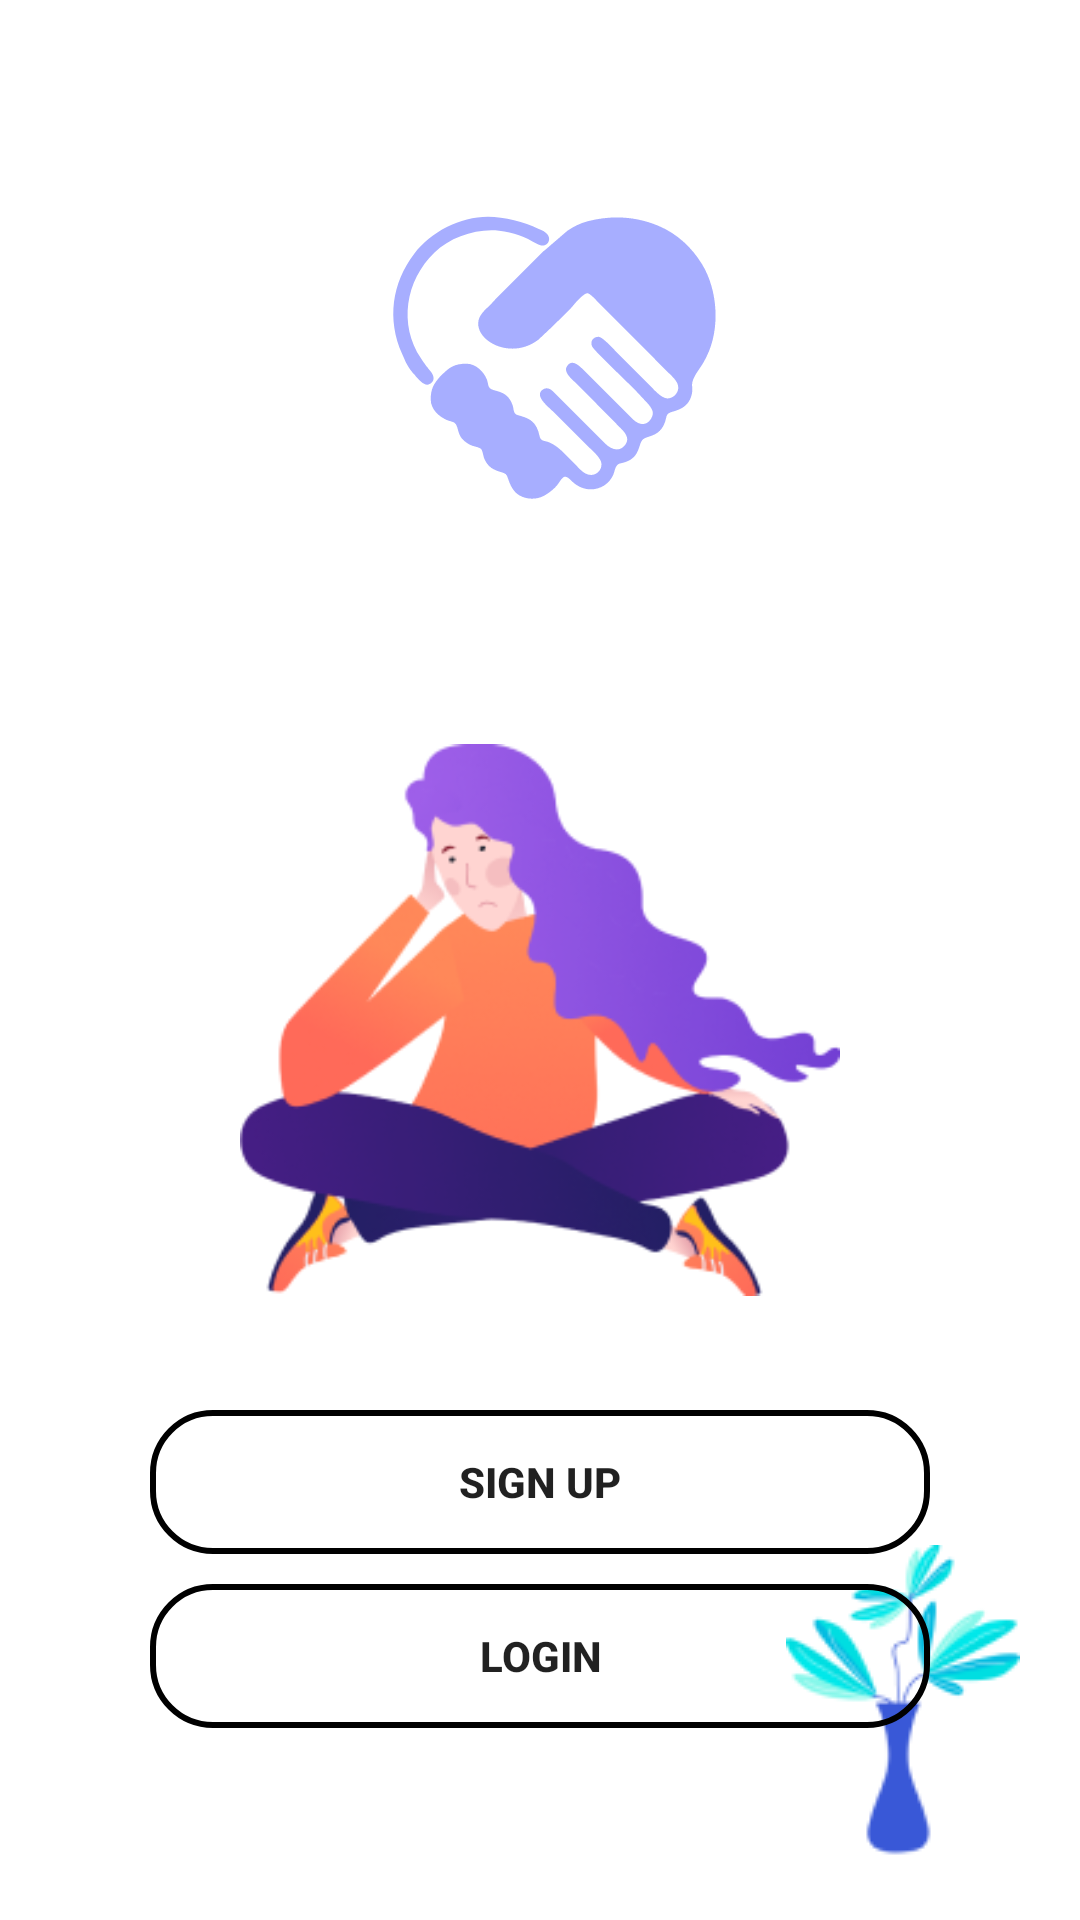

Icon click points for this 1080w x 1920h phone screenshot, format (x,y):
bunga: (903,1700)
